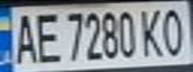0: (118, 7, 139, 60)
2: (81, 8, 103, 61)
7: (60, 8, 84, 62)
8: (100, 7, 121, 60)
A: (9, 9, 39, 64)
E: (33, 8, 63, 64)
K: (136, 4, 166, 58)
O: (157, 5, 190, 57)
